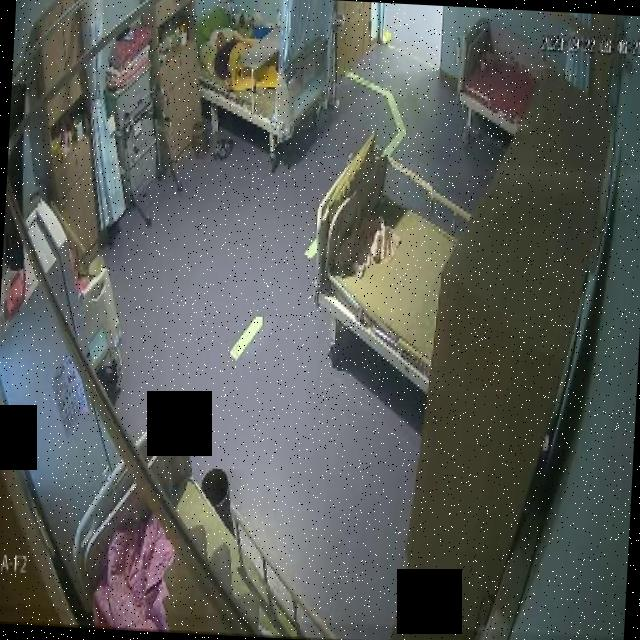bed: (68, 406, 322, 640), (311, 149, 467, 384), (198, 14, 334, 139), (454, 16, 542, 137)
lie: (210, 24, 284, 87)
patient: (210, 24, 253, 86)
